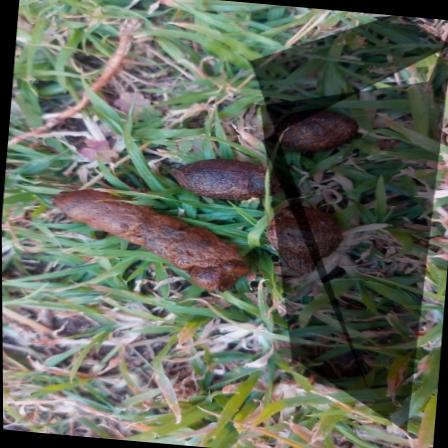dog-poop: (173, 101, 358, 254), (45, 183, 250, 296)
